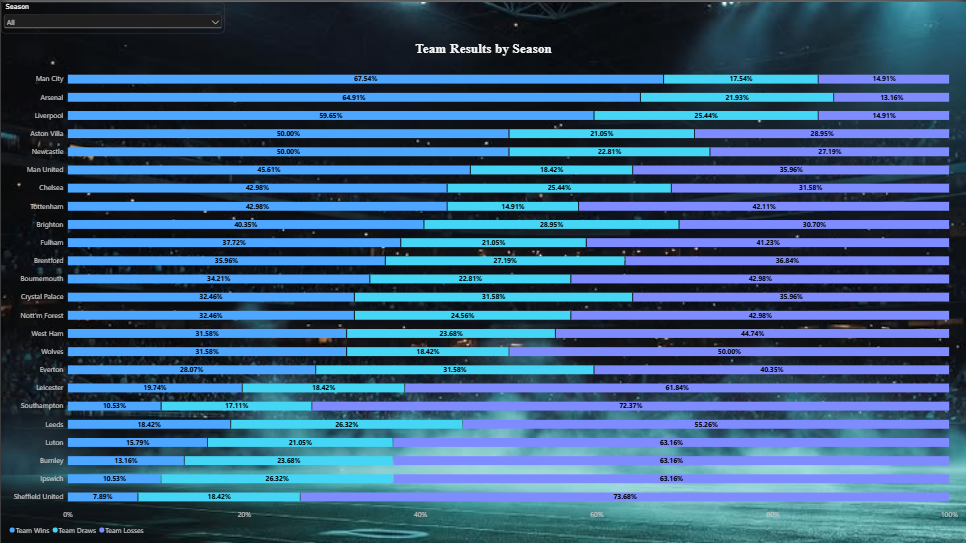

Layout of this report page (visuals, bound fields, positions):
{"tool":"powerbi","page":{"name":"Result by season","canvas":[1920,1080],"ordinal":4},"visuals":[{"type":"hundredPercentStackedBarChart","title":"Team Results by Season","fields":{"Category":["TeamPerformance.Team"],"Y":["TeamPerformance.Team Wins","TeamPerformance.Team Draws","TeamPerformance.Team Losses"]},"box":[0,61.7,1920.4,1018.9],"z":0},{"type":"slicer","fields":{"Values":["EPL_ALL_SEASON.Season"]},"box":[0,0,445.2,62.2],"z":1000}]}

Visuals, with their boxes in screenshot pixels (x1, y1, x2, y2), scaled from the page's 1920x1080 canvas onto the 966x543 screenshot:
"Team Results by Season" hundredPercentStackedBarChart: rect(0, 31, 965, 542)
slicer - EPL_ALL_SEASON.Season: rect(0, 0, 224, 31)
